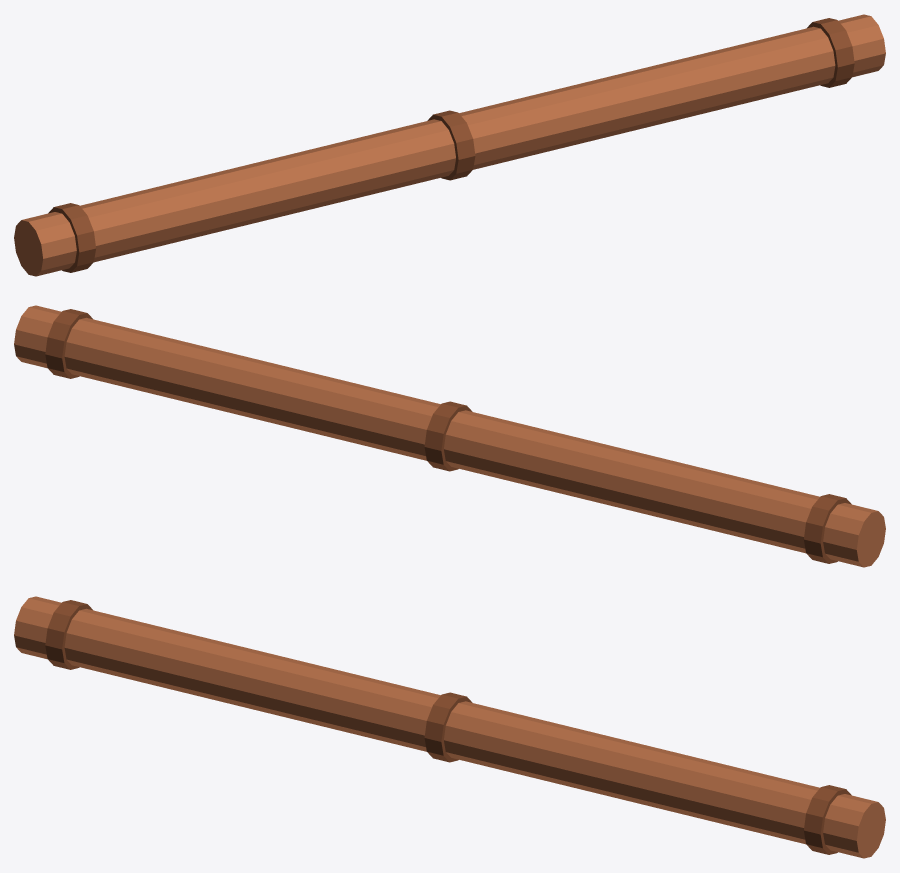
The model's file is pipe.glb.
The picture shows the model from 3 angles, top to bottom: view 1: azimuth 30°, elevation 25°; view 2: azimuth 150°, elevation 25°; view 3: azimuth 330°, elevation 25°; orthographic projection.
Visible parts, largest first — view 1: pipe; view 2: pipe; view 3: pipe.
Boxes of the visible parts, left/top/right/bottom form: pipe: left=14, top=14, right=885, bottom=276; pipe: left=14, top=305, right=885, bottom=567; pipe: left=14, top=596, right=885, bottom=858.
Size of the model in its own units: 2 by 0.14 by 0.14.
